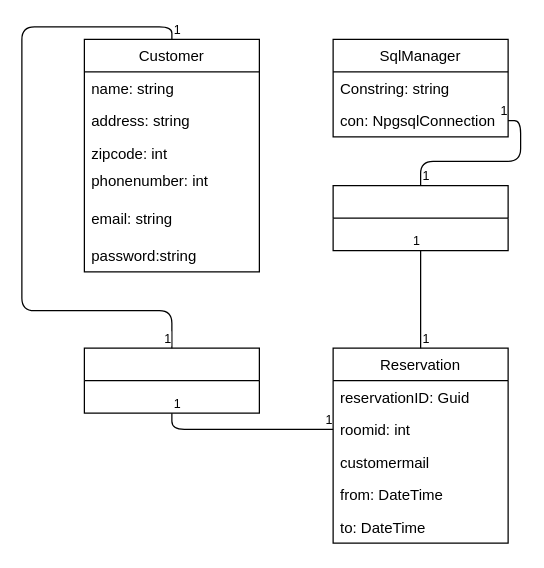
Image size: 544x568. Some labels were removed from this diagram. Here are the shapes that lost their labels. From the top down, the centre of each, then its label:
[420,217]: ReservationManager
[171,380]: CustomerManager
